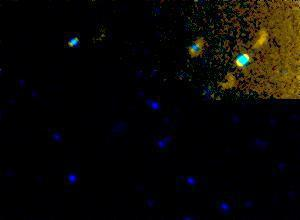star: (247, 25, 277, 55)
